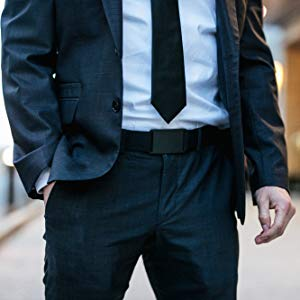F_M_suit jacket: (5, 1, 286, 195)
F_belt: (110, 124, 235, 156)
F_dress pants: (43, 127, 244, 300)
F_tie: (147, 1, 190, 122)
